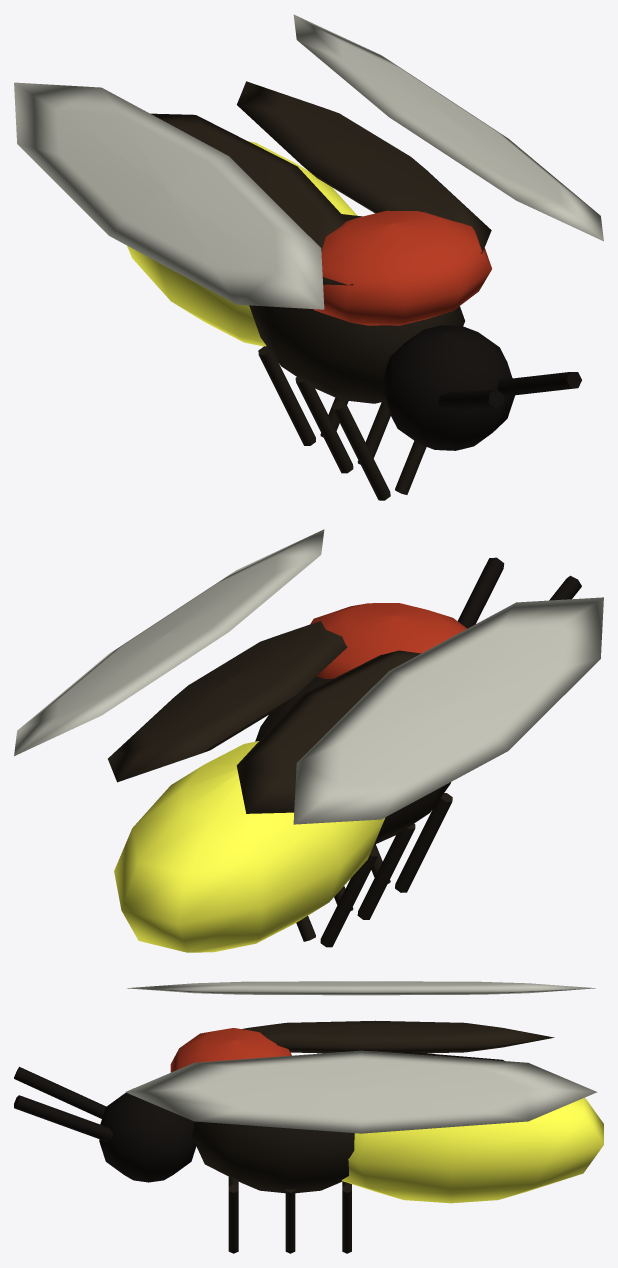
File: luciernaga.obj
3 views of the same model, one above another, from view 1: azimuth 30°, elevation 25°; view 2: azimuth 150°, elevation 25°; view 3: azimuth 270°, elevation 25° (orthographic). The views are drawn at different scales.
Parts seen in each view (by area): view 1: luciernaga; view 2: luciernaga; view 3: luciernaga.
Boxes of the visible parts, x1,y1,x2,y2 form: luciernaga: (14, 14, 603, 500); luciernaga: (14, 529, 603, 952); luciernaga: (14, 981, 603, 1253).
Size of the model in its own units: 0.0743 by 0.0531 by 0.1248.
